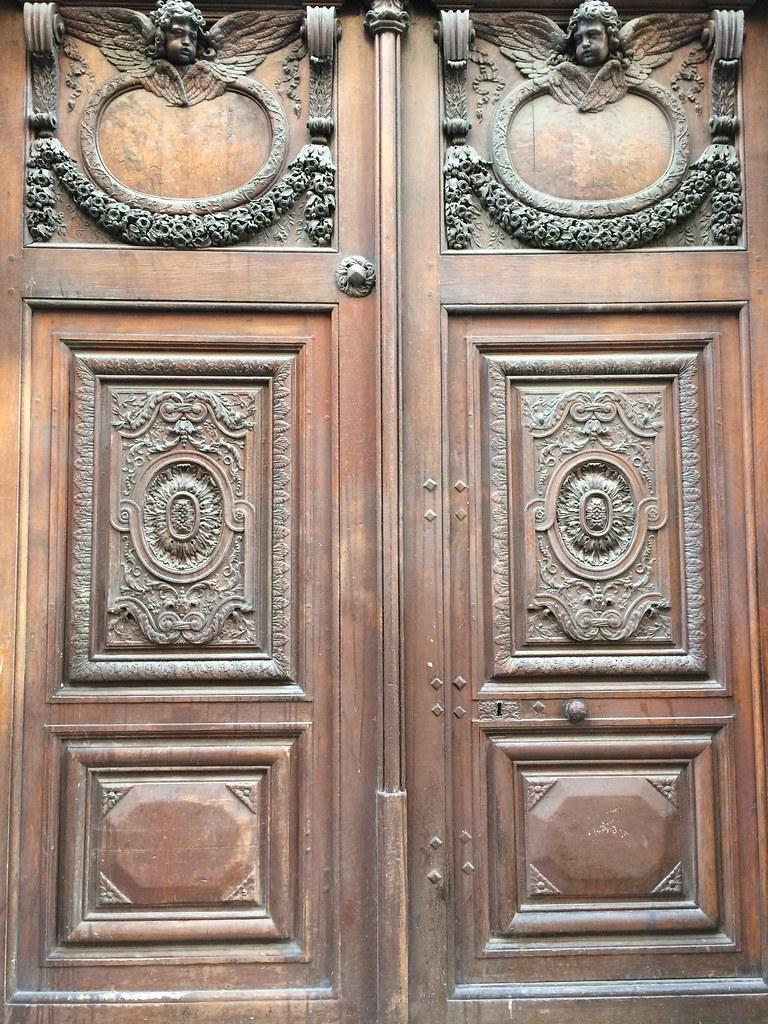door: (3, 1, 766, 1023), (399, 3, 766, 1022)
